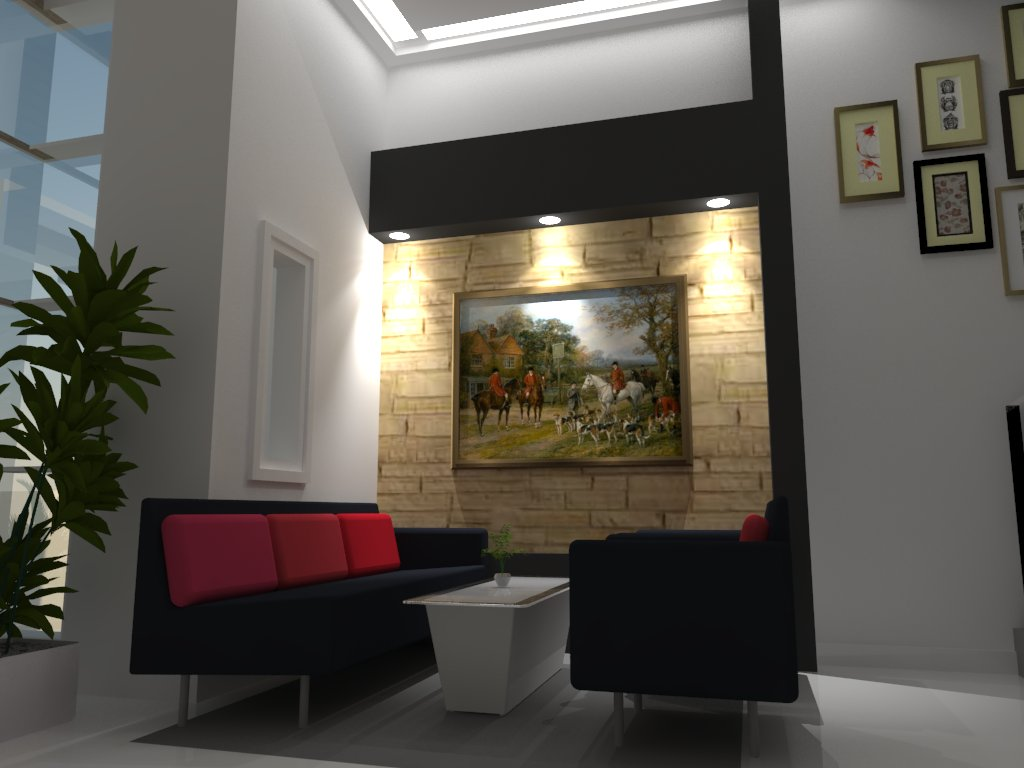bantal: (162, 513, 273, 593), (276, 511, 345, 585), (344, 509, 398, 575)
gelas: (493, 569, 512, 588)
lukisan: (452, 291, 693, 470), (910, 157, 1000, 250), (831, 99, 906, 205), (912, 54, 987, 147)
meja: (411, 554, 566, 713)
sova: (134, 490, 486, 715)
tanaman: (1, 228, 148, 723)
